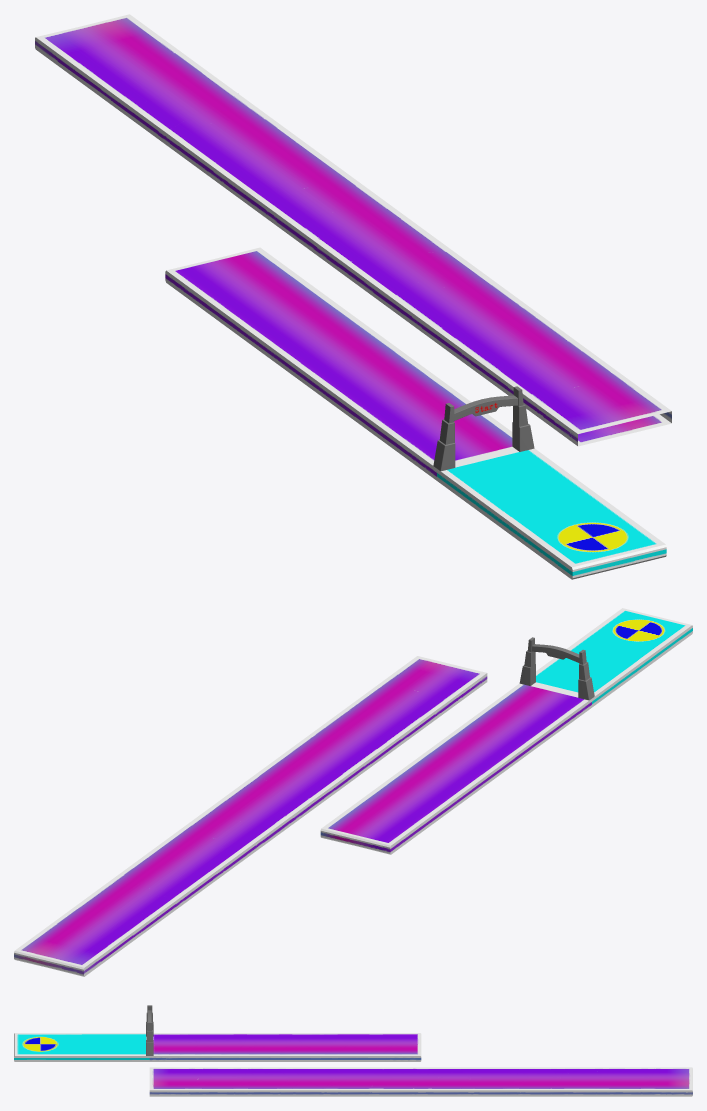
The model's file is CM-24-StartRoad.fbx.
The picture shows the model from 3 angles, top to bottom: view 1: azimuth 30°, elevation 25°; view 2: azimuth 150°, elevation 25°; view 3: azimuth 270°, elevation 25°; orthographic projection. The views are drawn at different scales.
Parts seen in each view (by area): view 1: CM_24_BeginRoad02, CM_24_BeginRoad01, CM_24_StartRoad, CM_24_StartGate; view 2: CM_24_BeginRoad02, CM_24_BeginRoad01, CM_24_StartRoad, CM_24_StartGate; view 3: CM_24_BeginRoad02, CM_24_BeginRoad01, CM_24_StartRoad, CM_24_StartGate.
Part boxes in pixels (x1,y1,x2,y2): CM_24_BeginRoad02: (35, 14, 671, 446); CM_24_BeginRoad01: (165, 247, 515, 480); CM_24_StartRoad: (437, 448, 666, 579); CM_24_StartGate: (433, 386, 534, 471); CM_24_BeginRoad02: (14, 656, 487, 976); CM_24_BeginRoad01: (320, 683, 591, 854); CM_24_StartRoad: (533, 608, 692, 707); CM_24_StartGate: (519, 637, 594, 700); CM_24_BeginRoad02: (149, 1067, 692, 1096); CM_24_BeginRoad01: (149, 1033, 421, 1061); CM_24_StartRoad: (14, 1033, 149, 1061); CM_24_StartGate: (146, 1005, 153, 1055).
Bounding box in the file's own units: 5 × 1.48 × 25.
